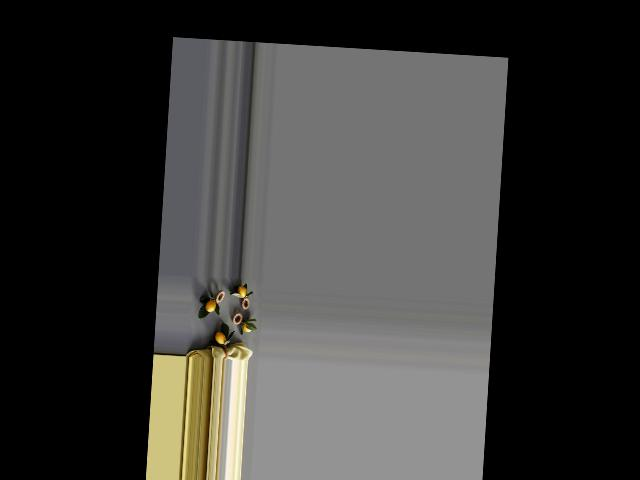lemon: (233, 282, 247, 299)
